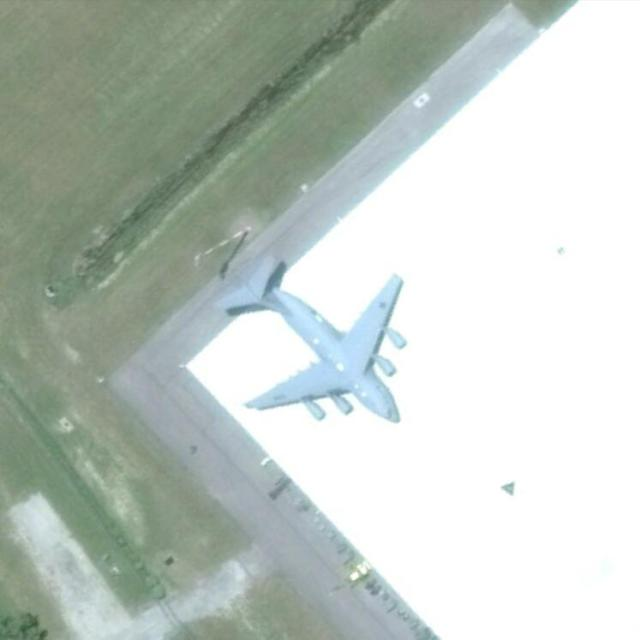fighter jet: (228, 260, 406, 423)
